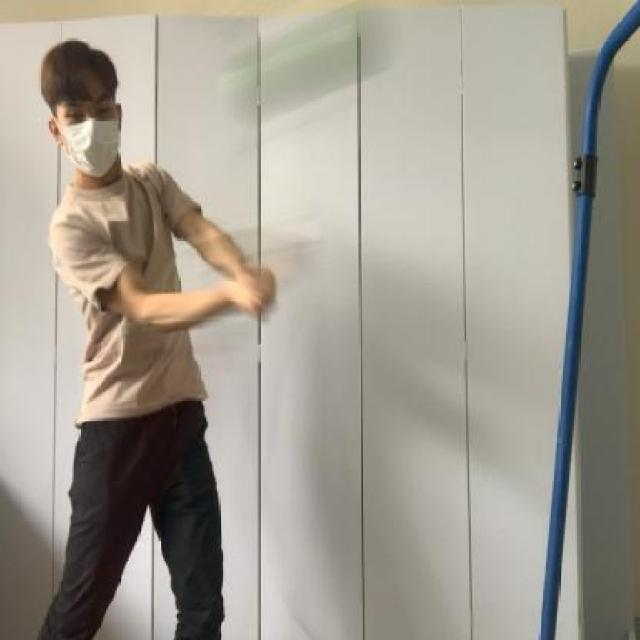baseball: (217, 12, 391, 110)
